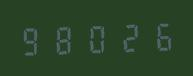eight: (49, 21, 79, 56)
nine: (18, 22, 48, 57)
six: (142, 18, 172, 53)
two: (111, 19, 141, 54)
zero: (80, 20, 110, 55)
